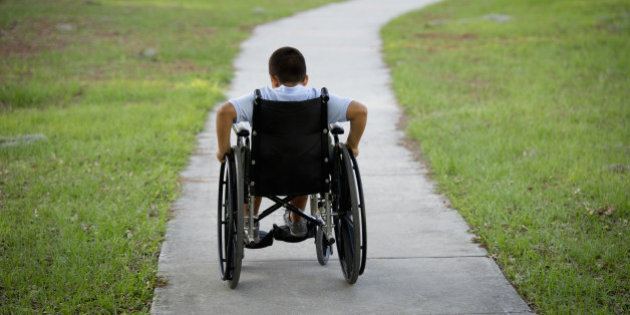person: (229, 41, 335, 115)
wheelchair: (209, 122, 392, 293)
